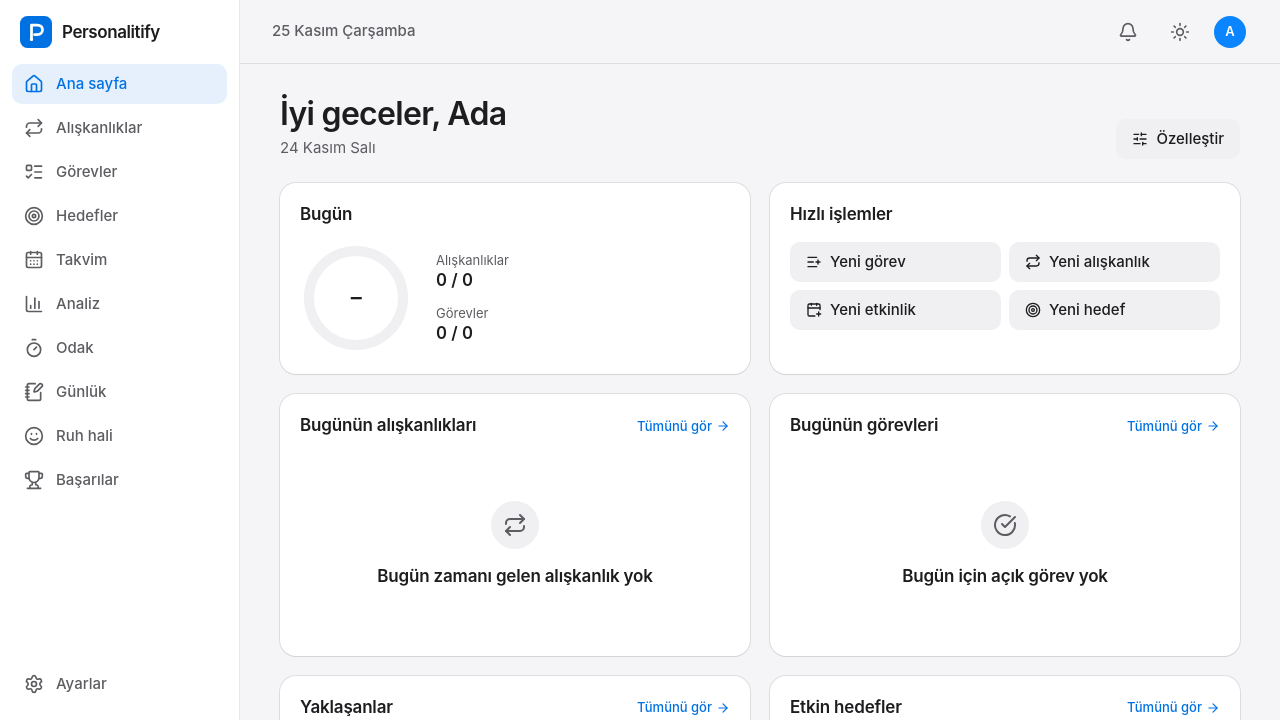
a returning user › is returned to the sign-in screen when the session is revoked elsewhere
Expected: the heading "İyi geceler, Ada" is shown, [280, 96, 506, 133]
// Open the security settings, whose requests are answered with "session revoked".
Click the link "Ayarlar".
click(65, 684)  # box [24, 674, 107, 694]
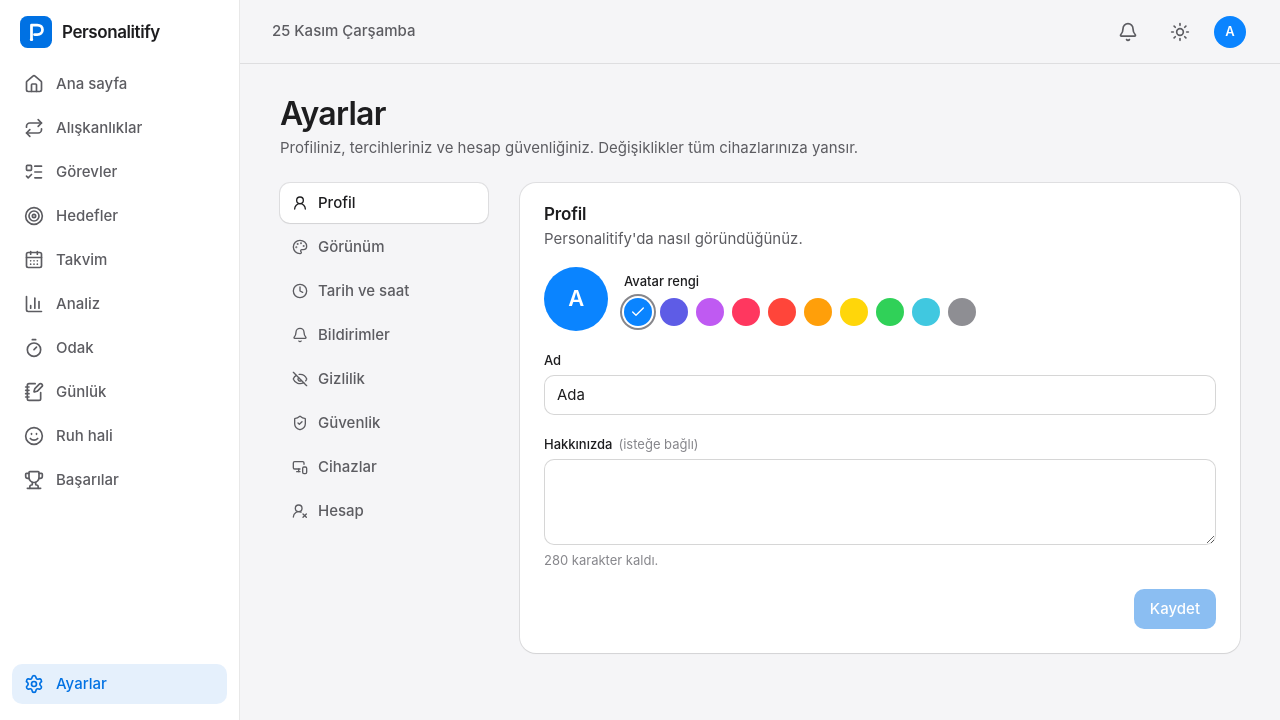
Click the link "Güvenlik".
click(336, 422)  # box [292, 413, 380, 432]
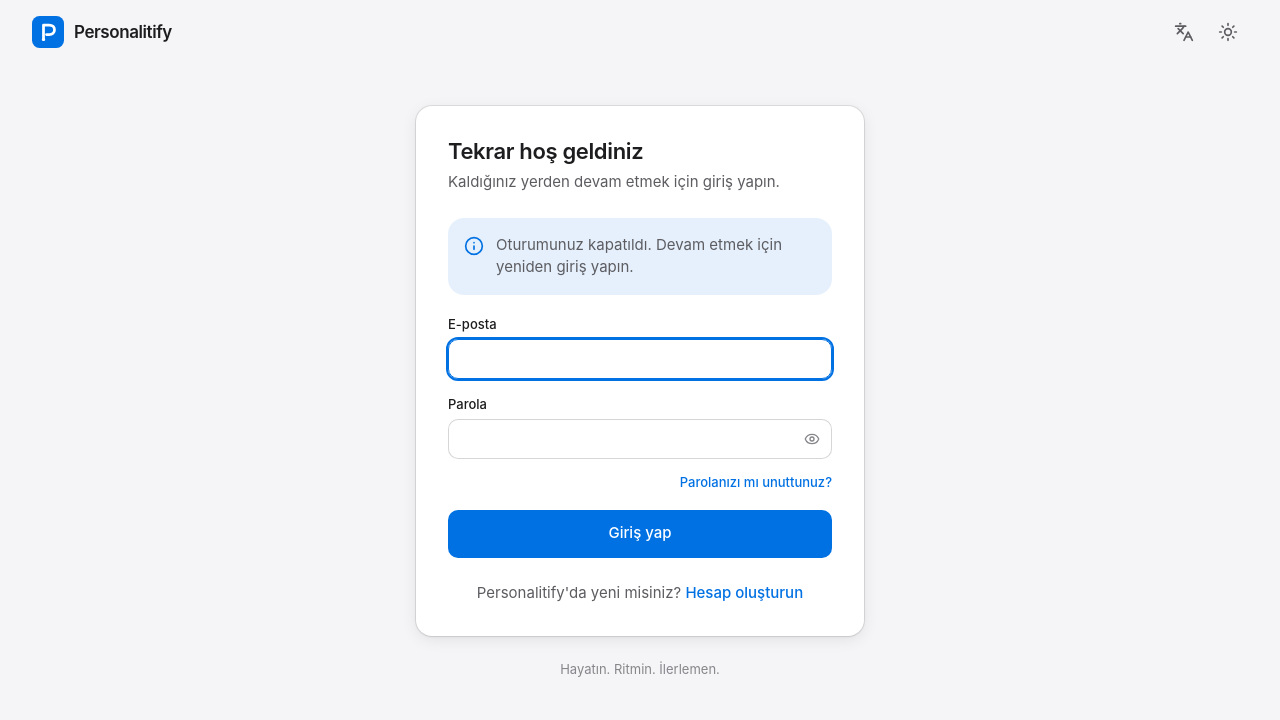
Result: the heading "Tekrar hoş geldiniz" is shown at [448, 138, 643, 164]
Result: the text "Oturumunuz kapatıldı. Devam etmek için yeniden giriş yapın." is shown at [496, 234, 816, 279]
